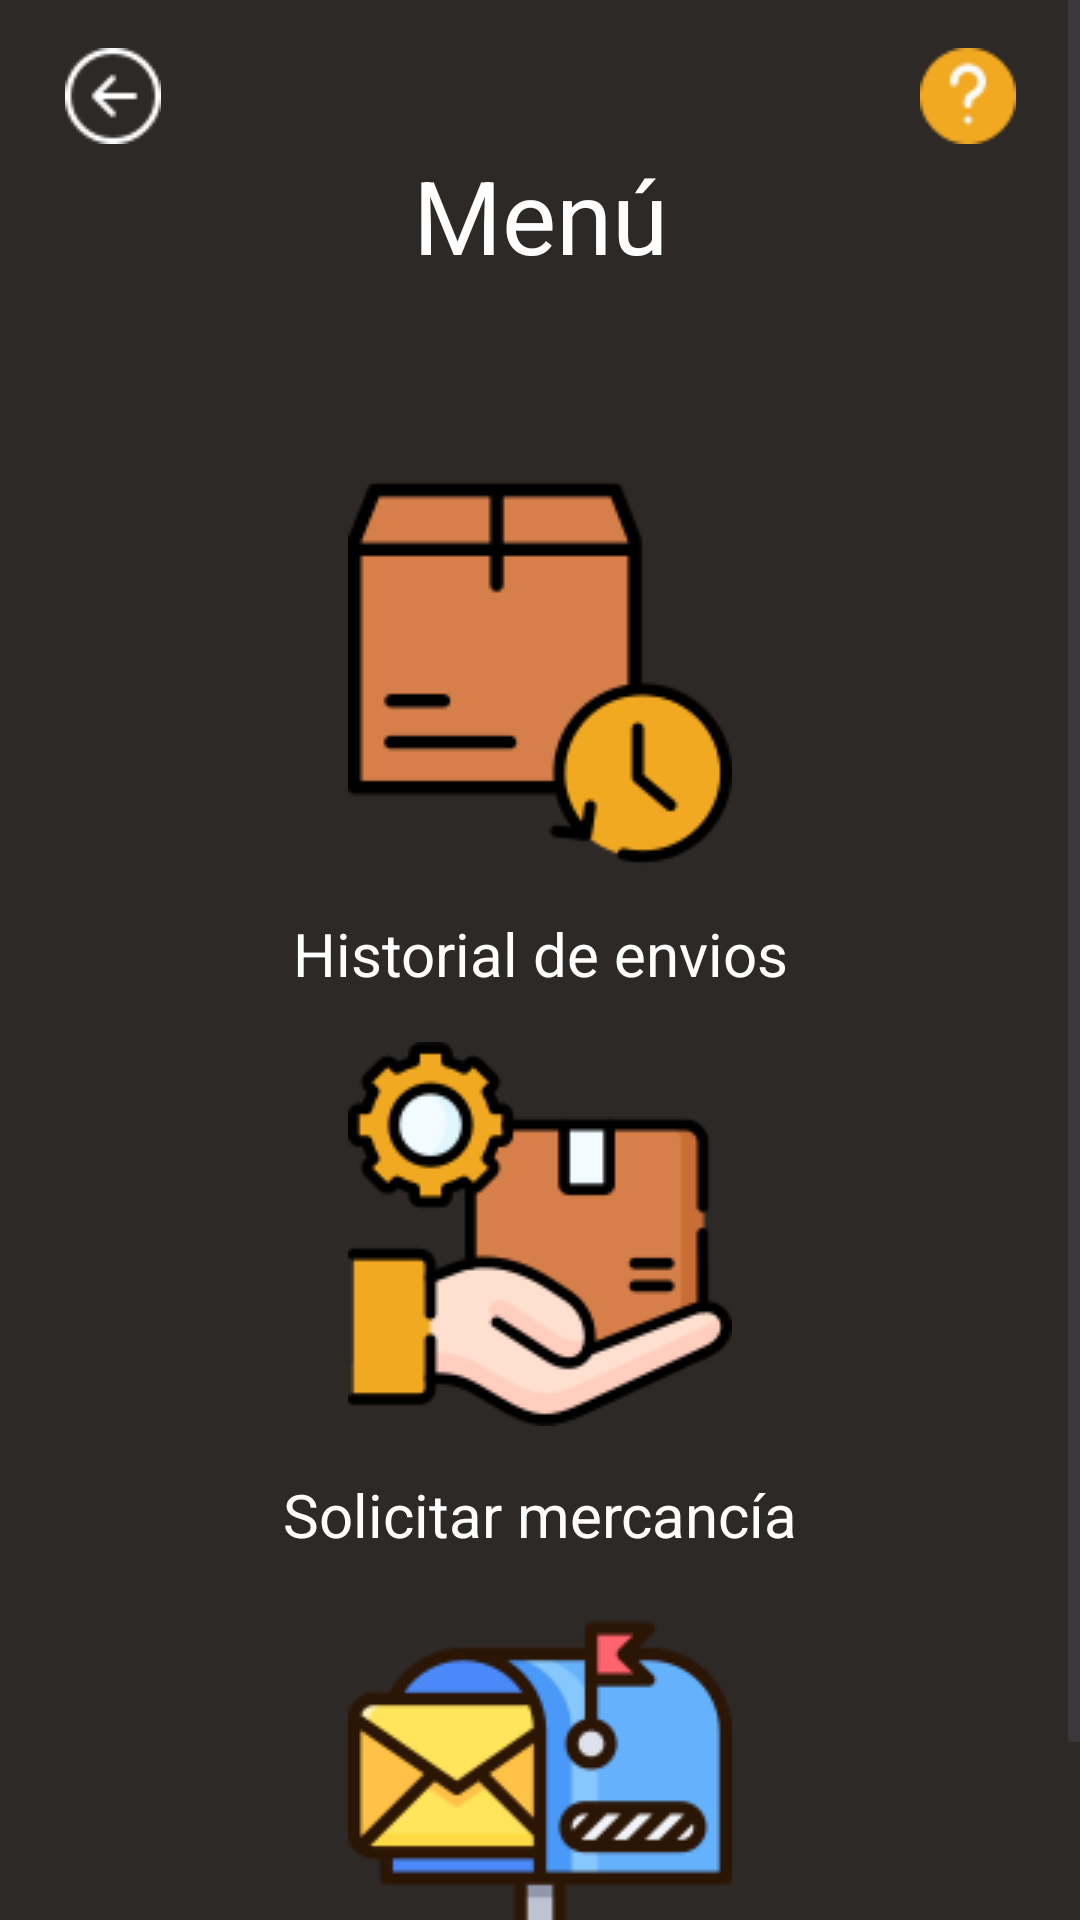

Where to tap for icons on this 1080 x 1920 app screen, as (x,y):
devolverse: (113,96)
pregunta: (968,96)
